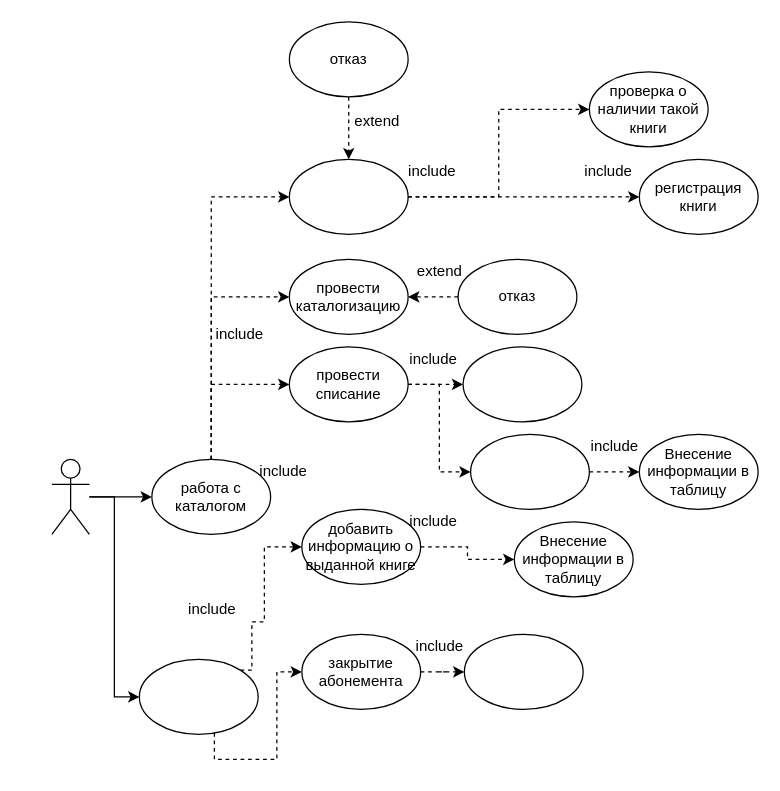
Some shapes in this 780 by 791 pixel diagram are drawn without their labels. Each missing label, with the box of its shape:
Библиотекарь: (51, 458, 89, 534)
Внесение информации в таблицу о читателе: (463, 633, 583, 709)
добавить новую книгу: (288, 158, 408, 234)
проверка устаревшей книги: (462, 346, 582, 422)
провести списание утерянной книги: (469, 433, 589, 509)
работа с формуляром: (138, 658, 258, 734)
